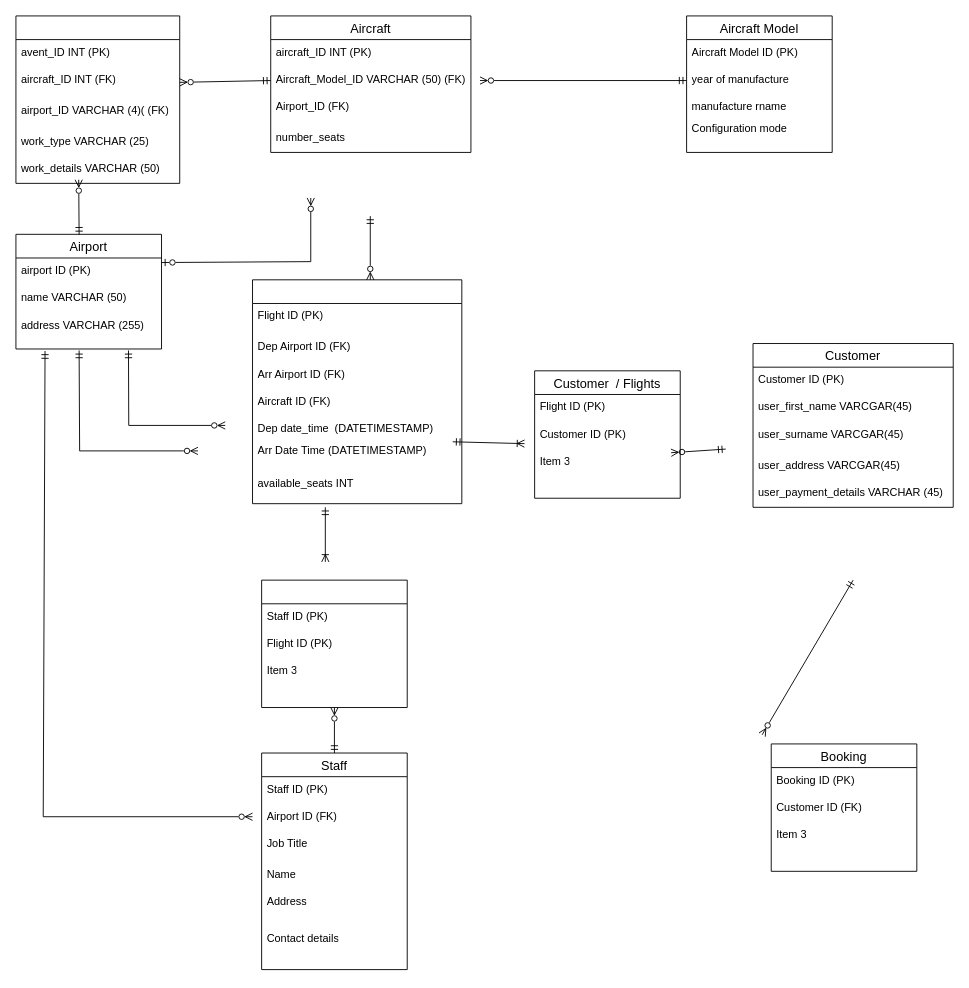
Some shapes in this 969 by 988 pixel diagram are drawn without their labels. The shapes that lost their labels are listed below. From the top down, each one's box as (x1, y1, x2, y2) in pixels, then its label:
(15, 15, 180, 183): Maintenance
(252, 279, 462, 504): Flights
(261, 579, 407, 708): Staff / Flights
